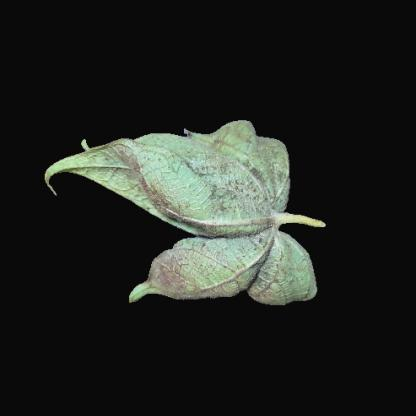curl_stage2: (167, 169, 201, 212), (208, 251, 245, 281)
sooty: (217, 147, 285, 206), (252, 253, 296, 295), (125, 156, 162, 204), (159, 250, 195, 297), (249, 208, 283, 246)
